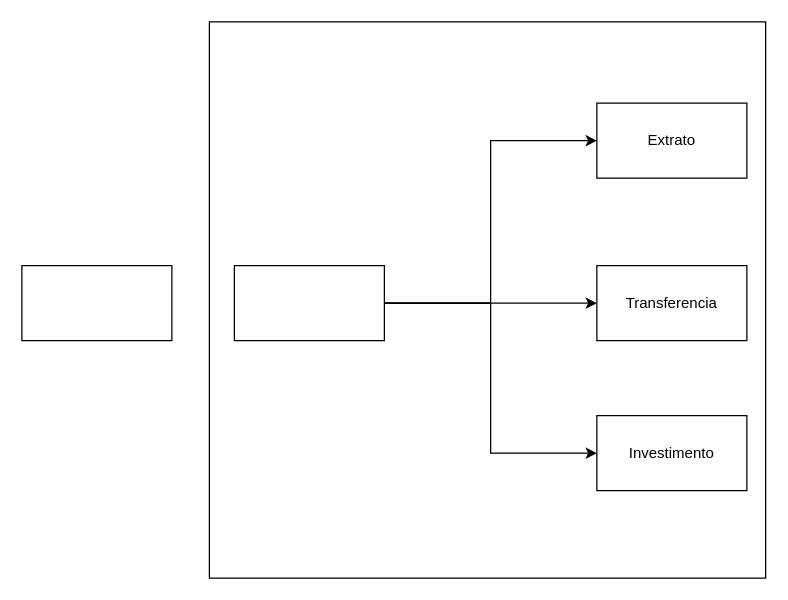
The diagram is 788 pixels wide and 600 high, and some of its shapes have lost their labels. Each missing label, with the centre of its shape:
Home: the point at 308,302
Login: the point at 96,302
